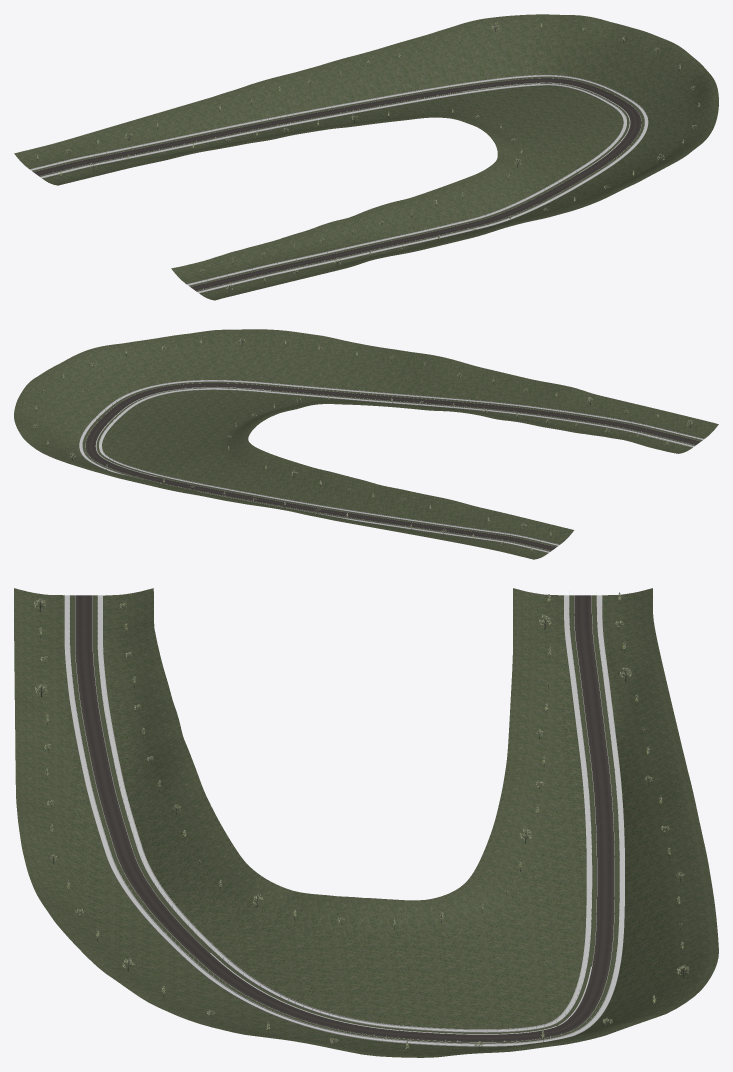
3 views of the same model, one above another, from view 1: azimuth 30°, elevation 25°; view 2: azimuth 150°, elevation 25°; view 3: azimuth 270°, elevation 25° (orthographic). The views are drawn at different scales.
Parts seen in each view (by area): view 1: Grass, Road, Track, Trees; view 2: Grass, Road, Track, Trees; view 3: Grass, Road, Track, Trees.
Boxes of the visible parts, x1,y1,x2,y2 form: Grass: [14, 14, 718, 300]; Road: [33, 78, 641, 290]; Track: [30, 74, 648, 293]; Trees: [36, 23, 699, 292]; Grass: [14, 329, 718, 559]; Road: [85, 383, 700, 550]; Track: [79, 380, 703, 552]; Trees: [33, 338, 692, 553]; Grass: [14, 588, 718, 1057]; Road: [75, 595, 614, 1041]; Track: [64, 595, 624, 1046]; Trees: [34, 592, 688, 1053].
Size of what is drawn, in the model's own units: 111666 by 6338 by 70619.
